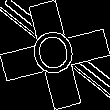O_S: (28, 25, 82, 85)
